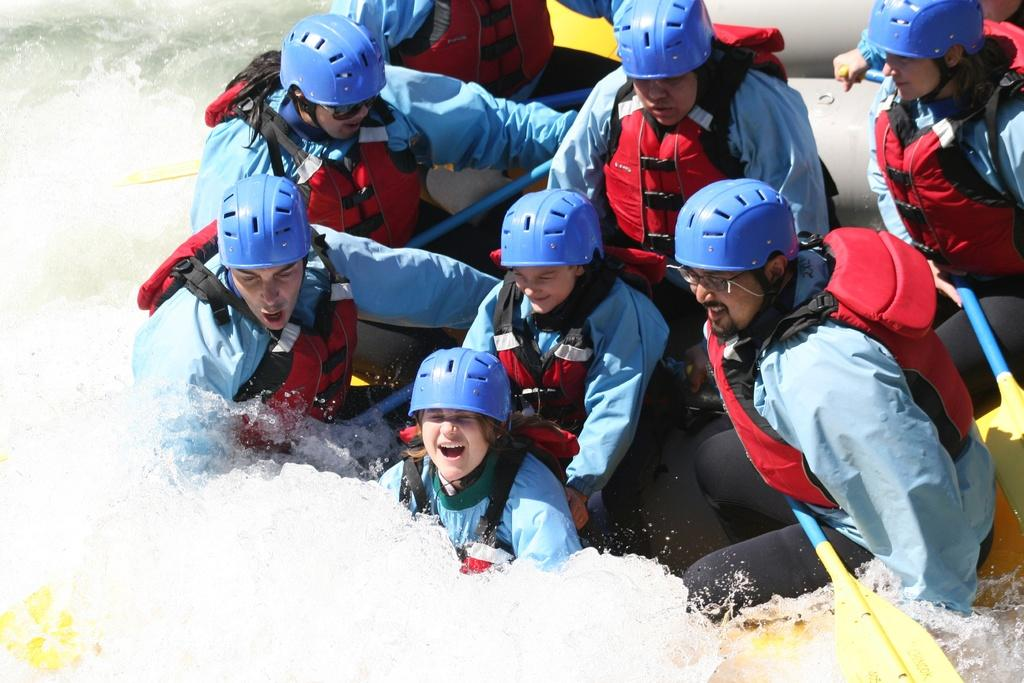Hat: (672, 177, 800, 342), (857, 0, 982, 112), (272, 8, 390, 108), (498, 187, 611, 274), (214, 178, 316, 272), (606, 0, 714, 84), (407, 346, 513, 426), (335, 0, 433, 52)
